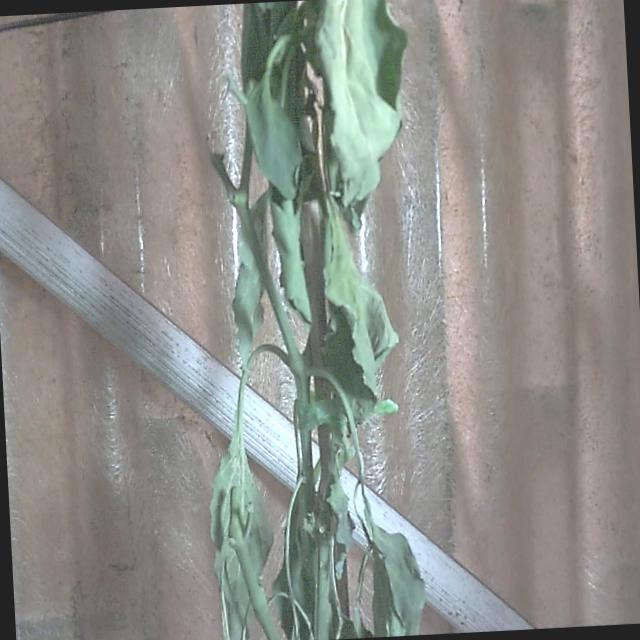Leaf: (320, 210, 402, 425), (207, 429, 275, 640), (244, 72, 309, 203), (368, 520, 430, 638)
